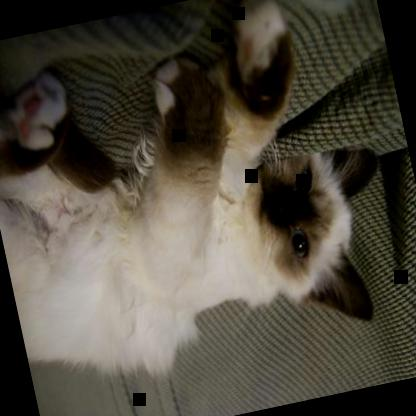cat: (0, 0, 411, 393)
